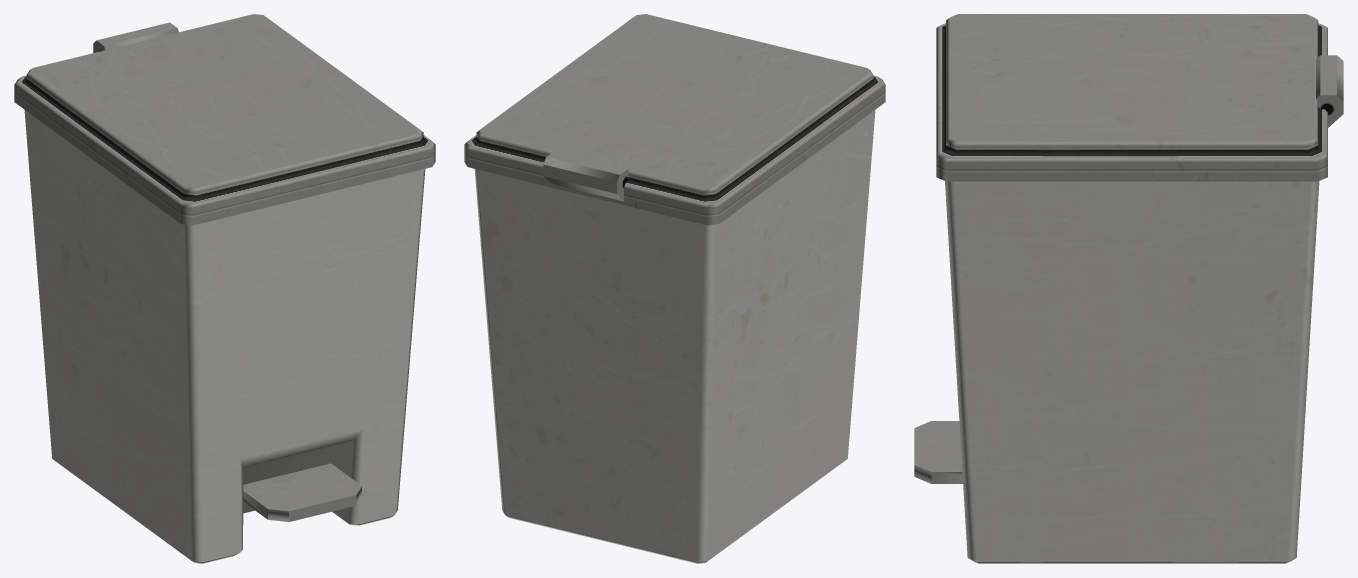
File: bin_lab.fbx
3 views of the same model, side by side, from view 1: azimuth 30°, elevation 25°; view 2: azimuth 150°, elevation 25°; view 3: azimuth 270°, elevation 25° (orthographic). The views are drawn at different scales.
Parts seen in each view (by area): view 1: bin_lab_LOD0; view 2: bin_lab_LOD0; view 3: bin_lab_LOD0.
Part boxes in pixels (<box>): bin_lab_LOD0: <box>14,14,435,563</box>; bin_lab_LOD0: <box>464,14,885,563</box>; bin_lab_LOD0: <box>914,14,1343,563</box>.
Size of what is drawn, in the model's own units: 0.4093 by 0.5352 by 0.5985.
